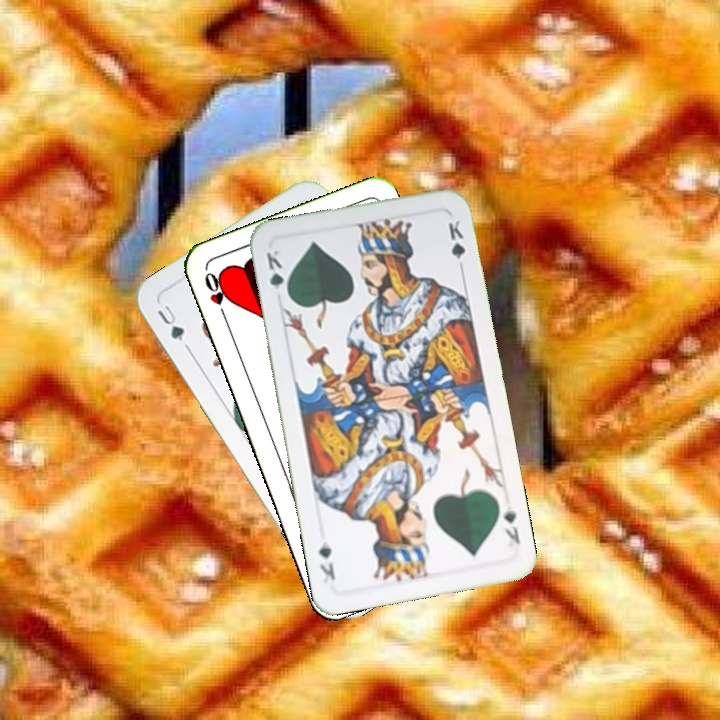GK: (262, 246, 292, 302), (498, 501, 523, 550)
GU: (153, 300, 192, 352)
HO: (200, 268, 230, 324)
